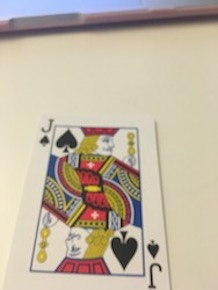JackOfSpades: (6, 110, 174, 290)
